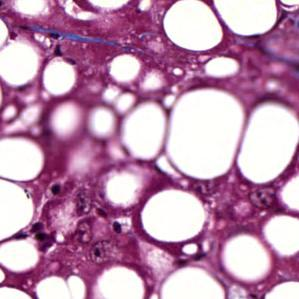steatosis: (143, 189, 207, 242), (222, 232, 273, 286)
